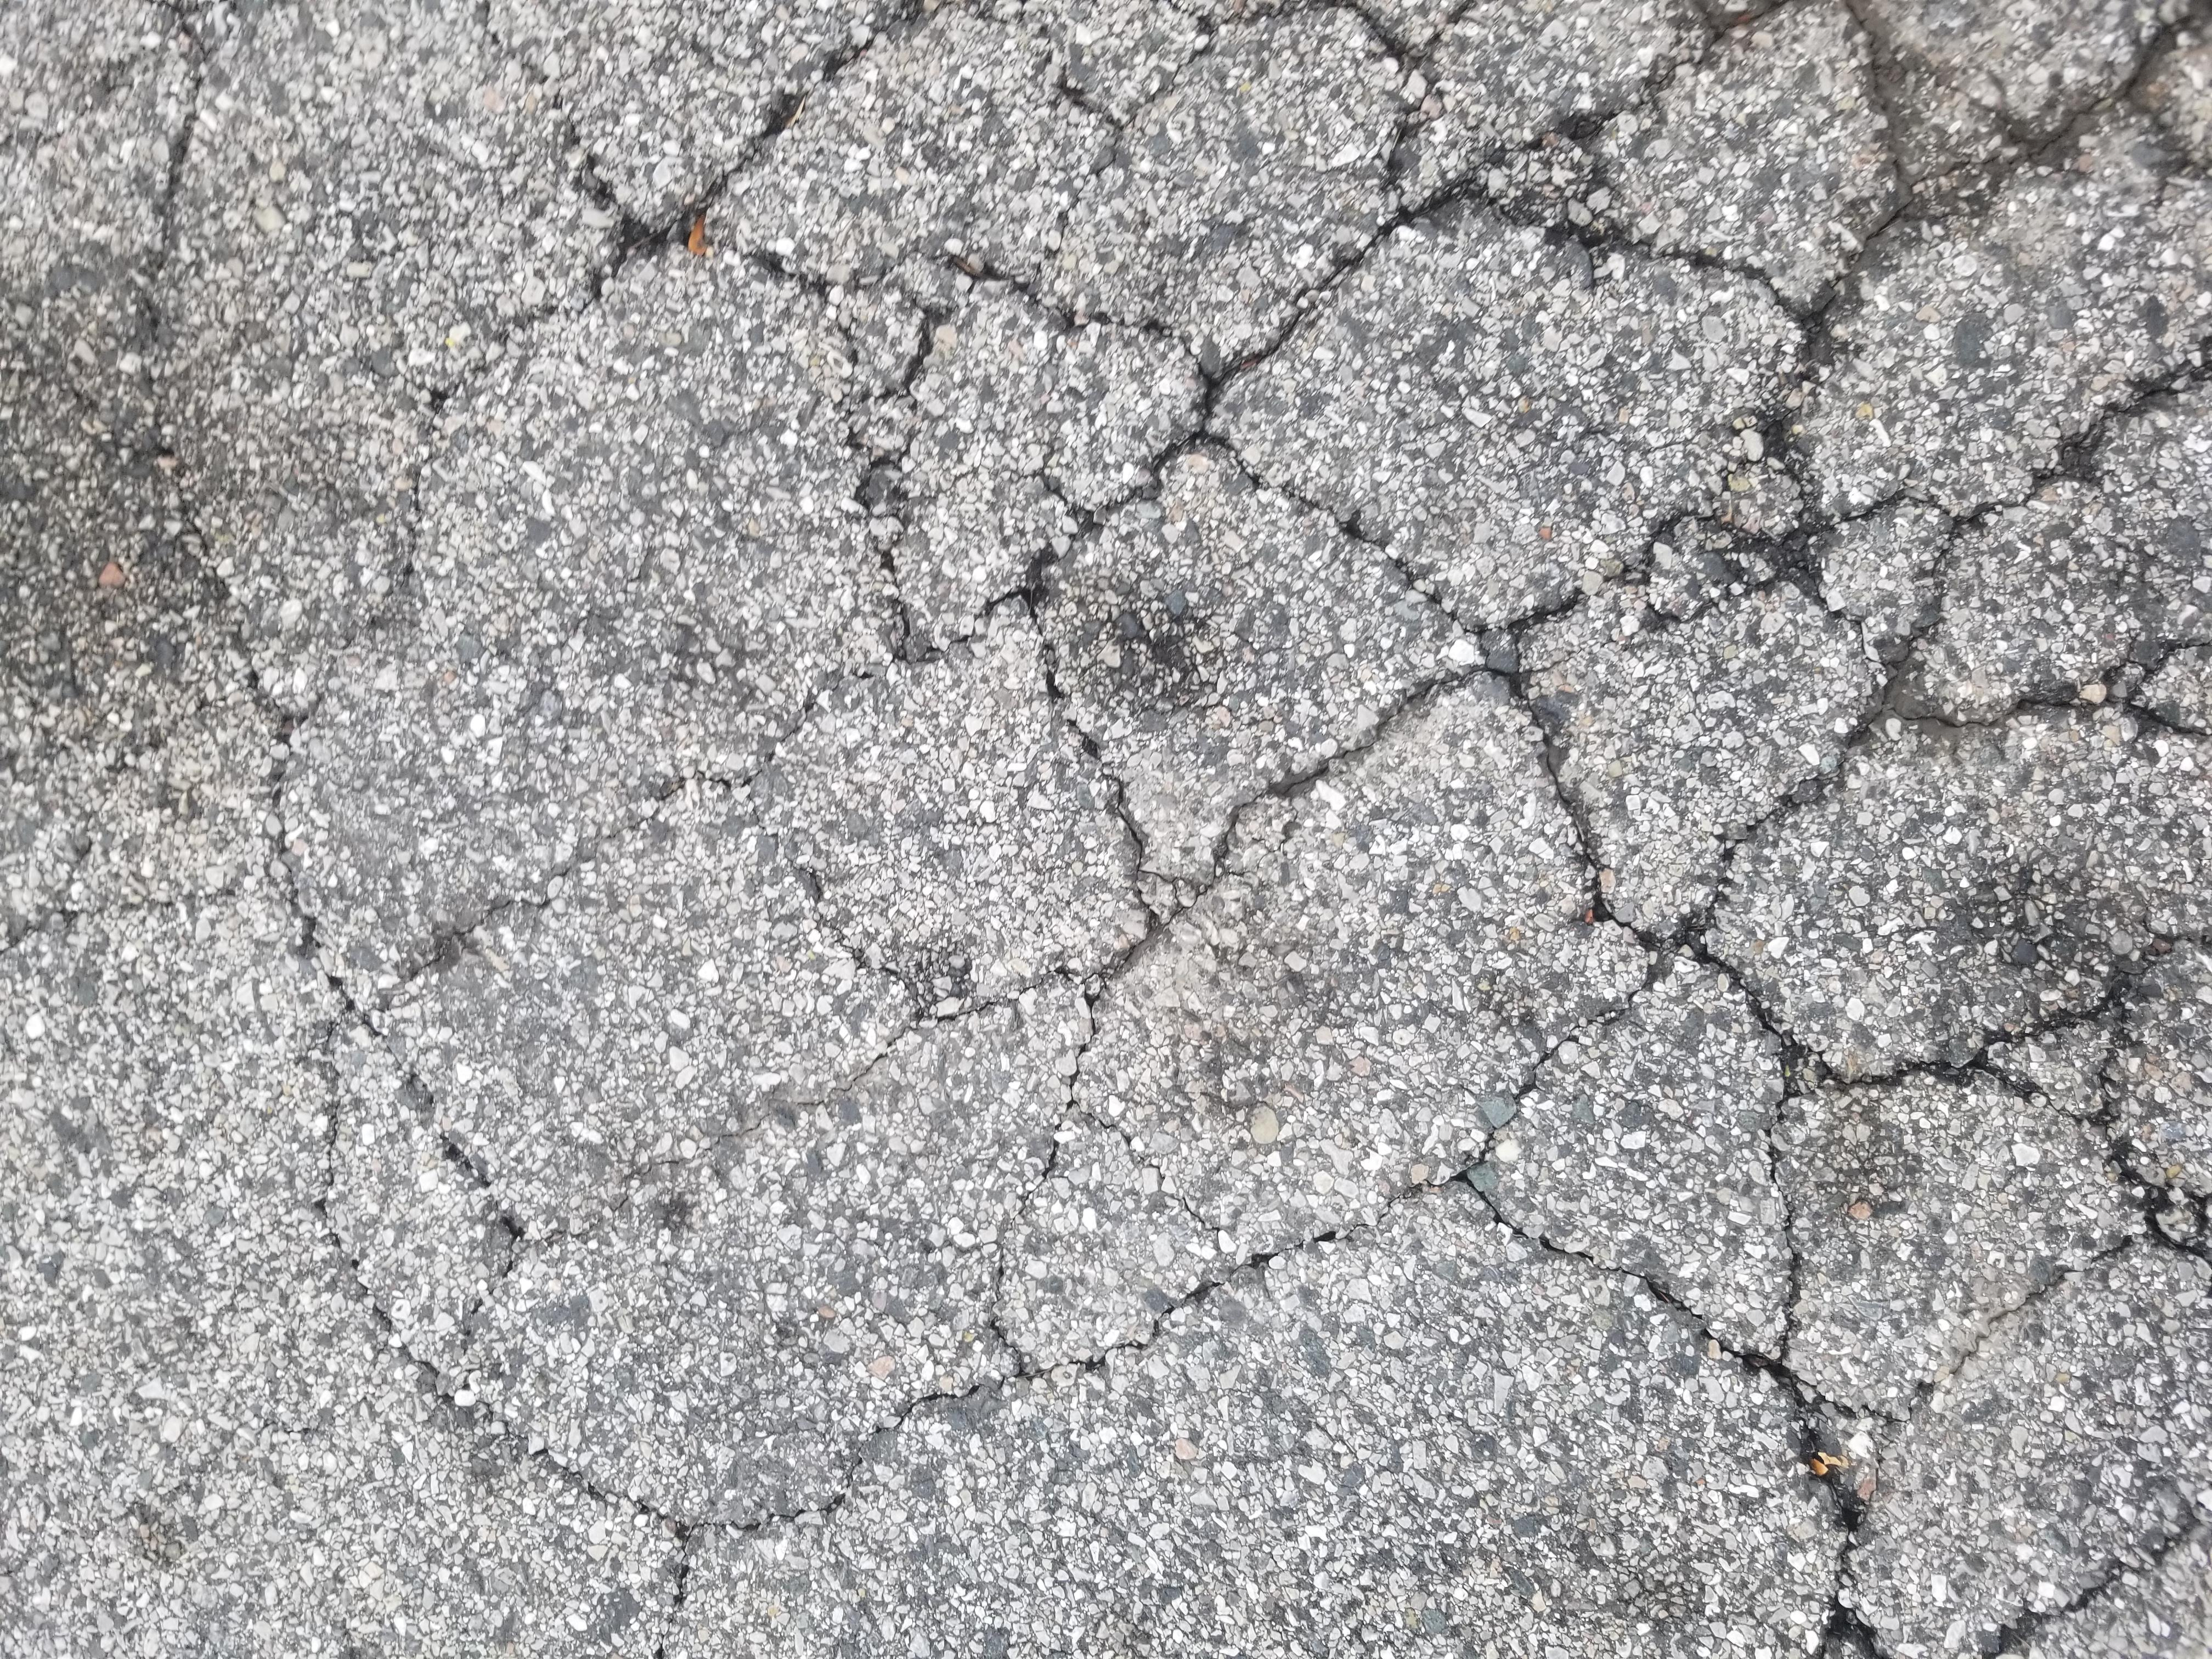alligator-crack: (484, 634, 2212, 1659)
